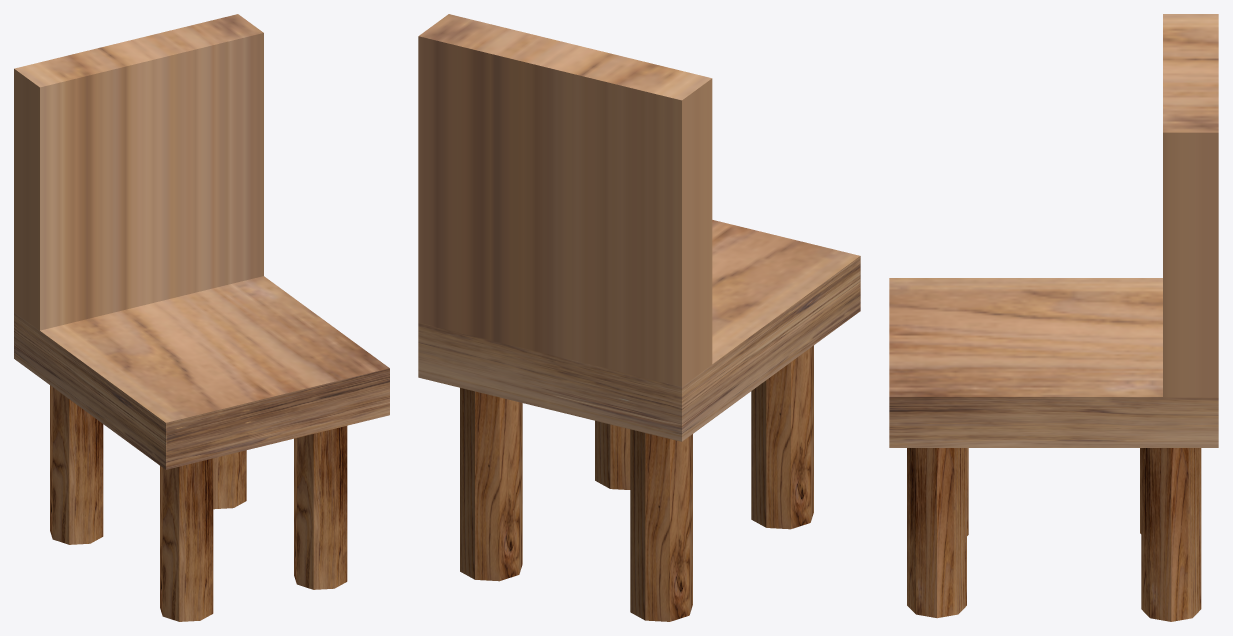
Rendered from KitchenChair.fbx.
3 renders of one model, left to right at view 1: azimuth 30°, elevation 25°; view 2: azimuth 150°, elevation 25°; view 3: azimuth 270°, elevation 25°, orthographic. The views are drawn at different scales.
Visible parts, largest first — view 1: Cube.024, Cylinder.019, Cylinder.018, Cylinder.020, Cylinder.021; view 2: Cube.024, Cylinder.020, Cylinder.021, Cylinder.018, Cylinder.019; view 3: Cube.024, Cylinder.021, Cylinder.019.
Boxes of the visible parts, box(x1,y1,x2,y2) form: Cube.024: box(14, 14, 389, 469); Cylinder.019: box(294, 426, 347, 589); Cylinder.018: box(160, 458, 213, 621); Cylinder.020: box(50, 385, 103, 544); Cylinder.021: box(213, 450, 246, 509); Cube.024: box(418, 14, 860, 441); Cylinder.020: box(630, 429, 692, 621); Cylinder.021: box(460, 388, 522, 581); Cylinder.018: box(751, 345, 813, 529); Cylinder.019: box(595, 420, 630, 489); Cube.024: box(889, 14, 1218, 447); Cylinder.021: box(1141, 448, 1201, 621); Cylinder.019: box(907, 448, 966, 618).
Bounding box in the file's own units: 59.59 × 69.93 × 117.
